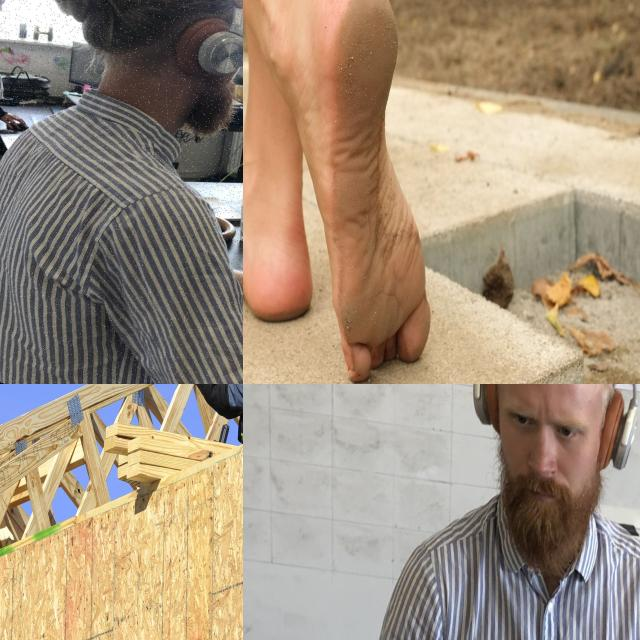Barefoots: (324, 0, 430, 383), (243, 202, 312, 323)
Ear-protection: (450, 384, 640, 579), (60, 0, 243, 147)
No_Glasses: (499, 396, 586, 455)
